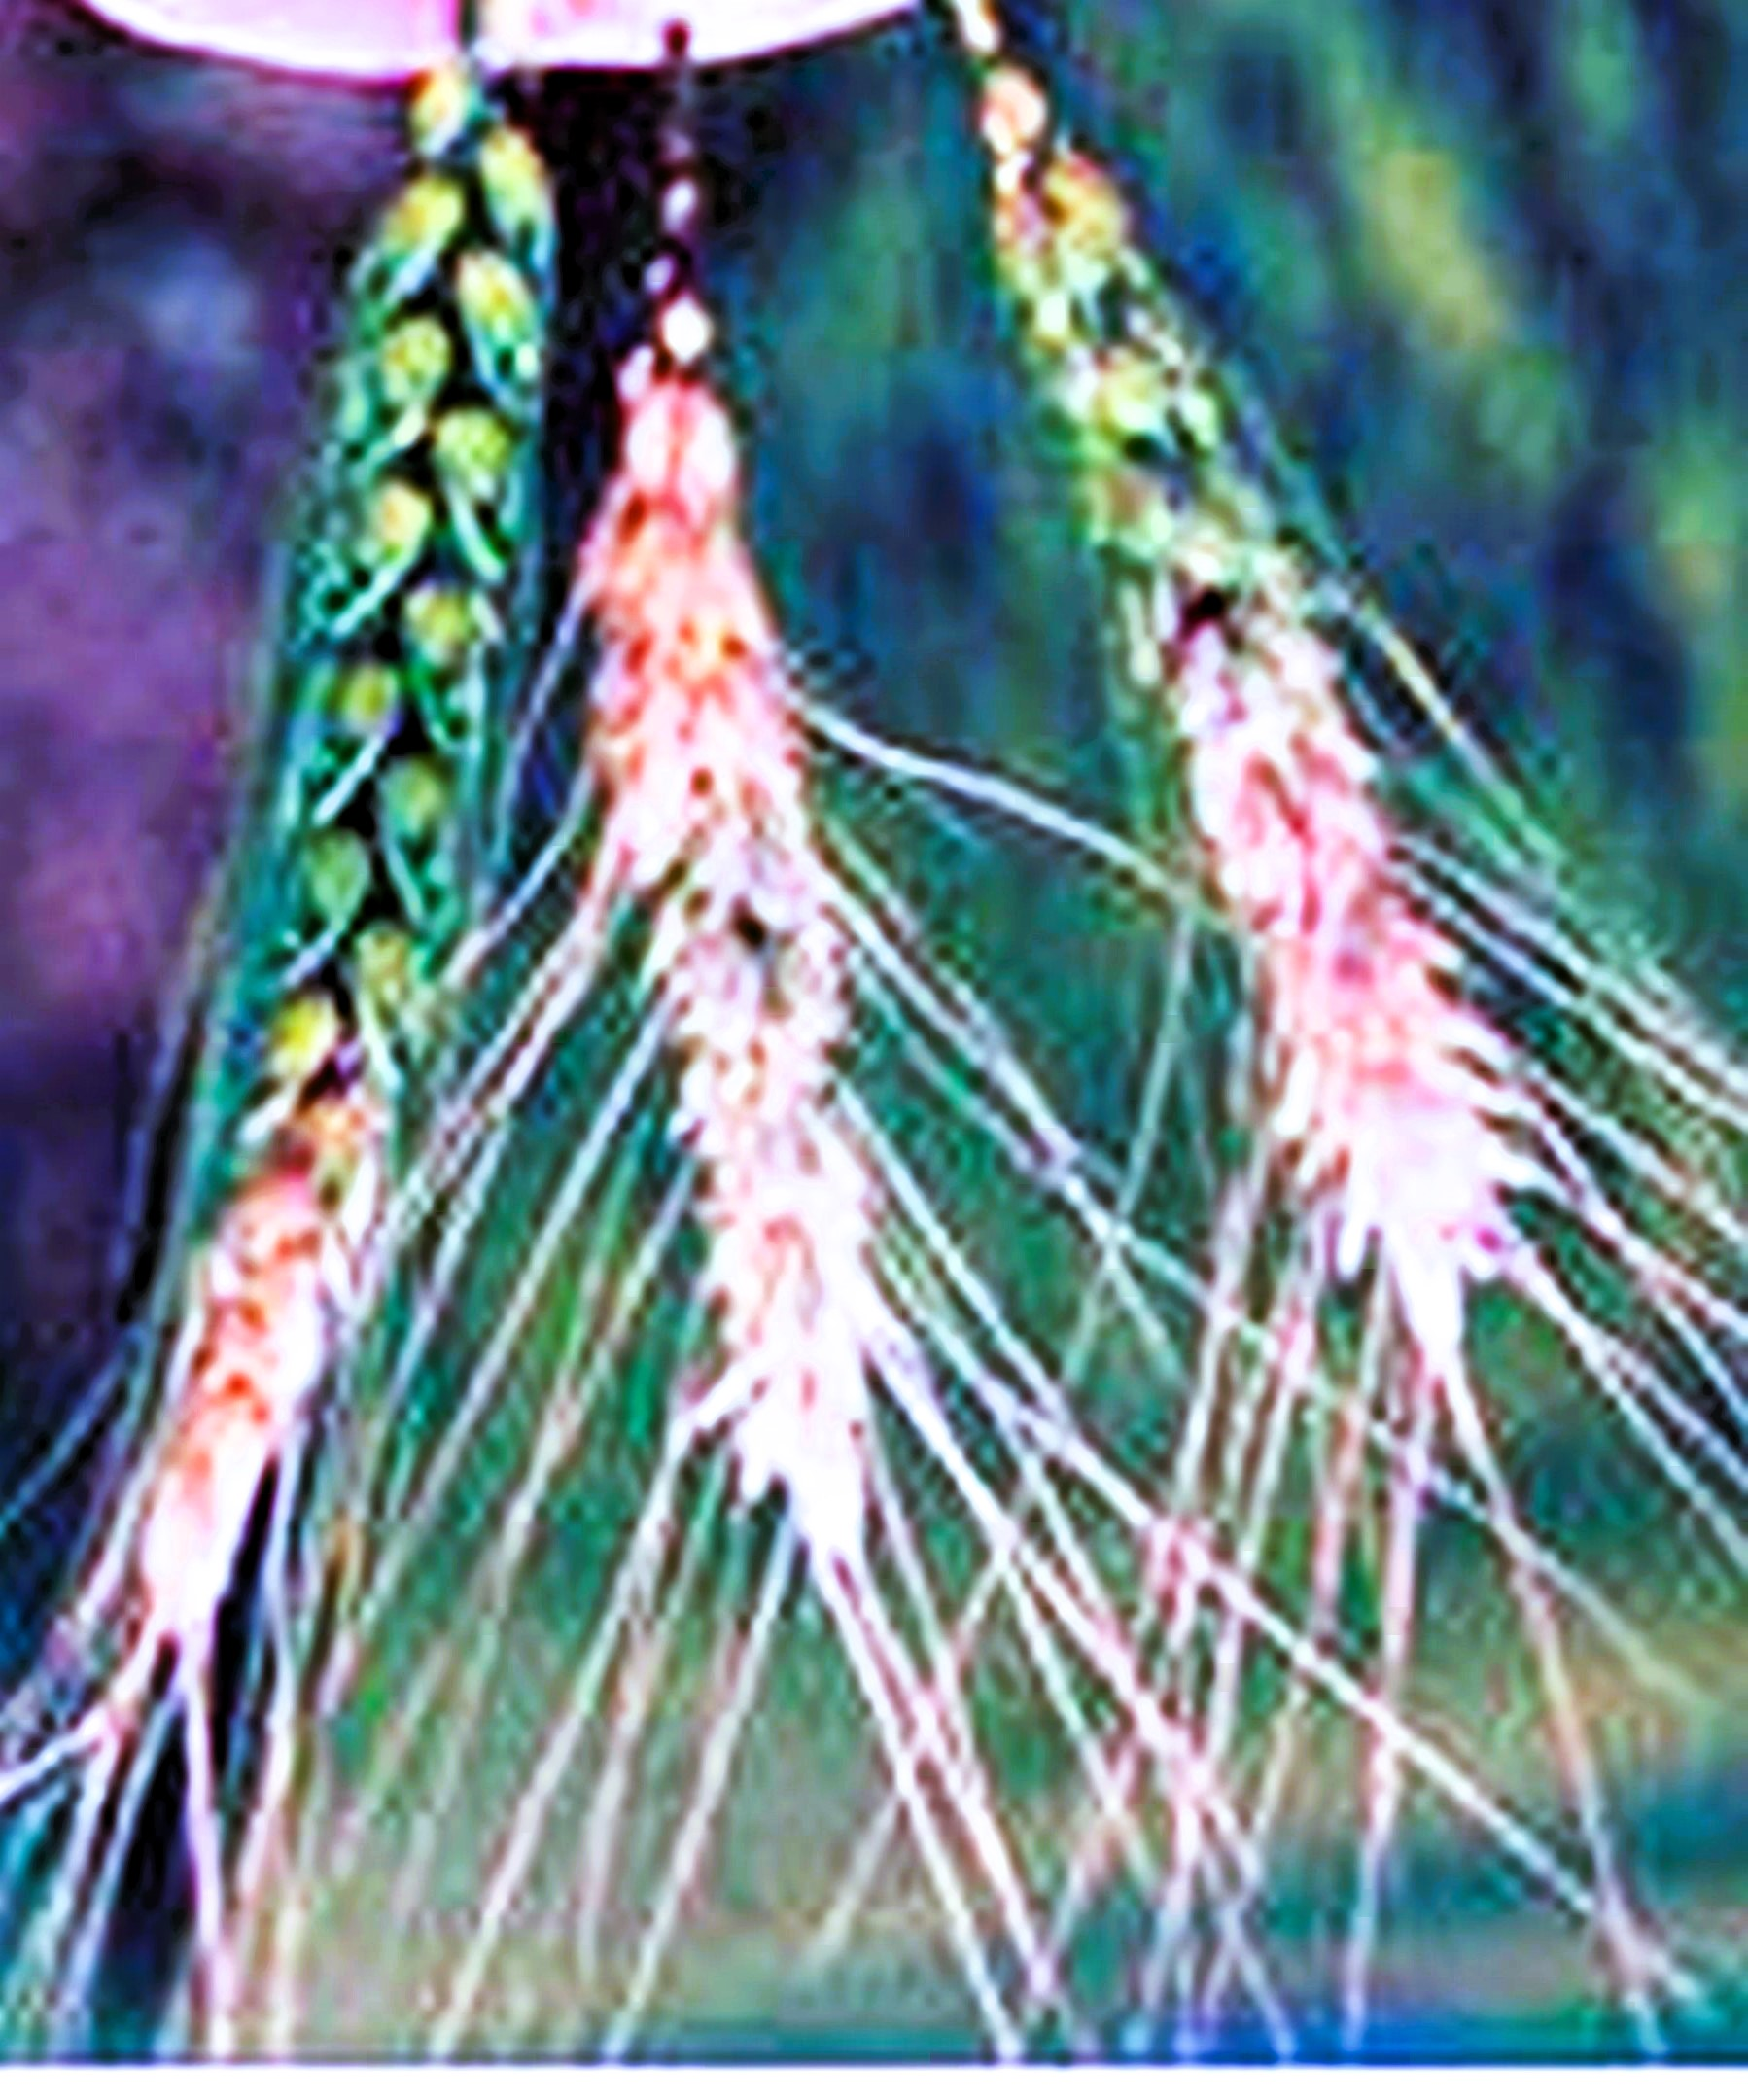Wheat scab: (101, 647, 520, 1594)
